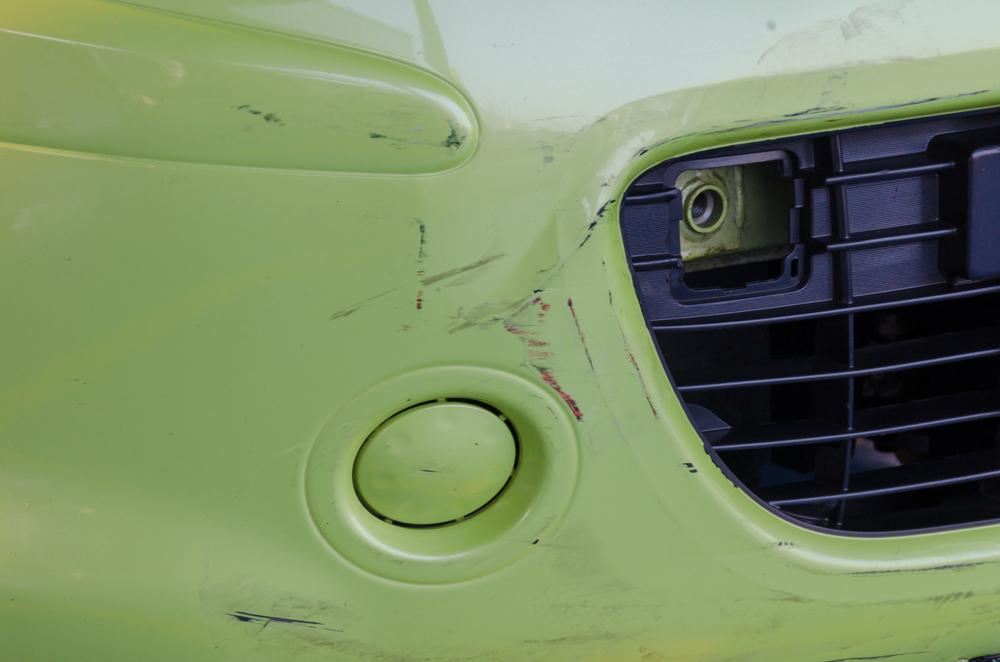scratch: (323, 80, 1000, 435), (733, 538, 1000, 662), (236, 98, 470, 153), (217, 607, 342, 640)
